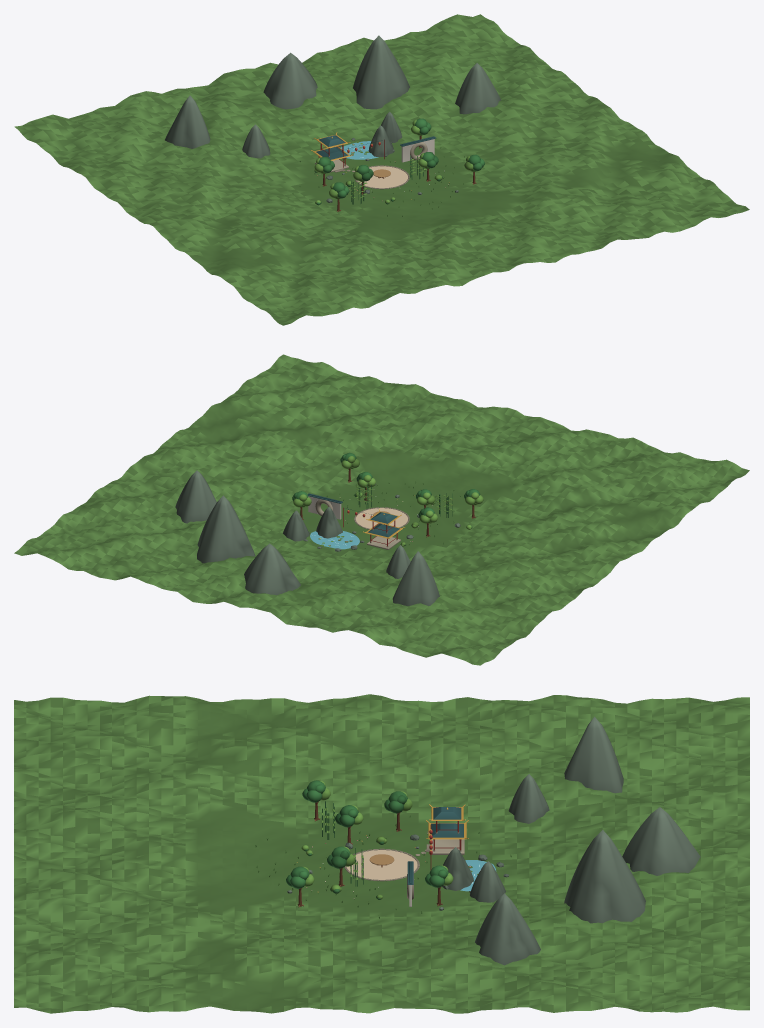
The model's file is china.glb.
3 renders of one model, top to bottom at view 1: azimuth 30°, elevation 25°; view 2: azimuth 150°, elevation 25°; view 3: azimuth 270°, elevation 25°, orthographic. The views are drawn at different scales.
Visible parts, largest first — view 1: china; view 2: china, china_agua; view 3: china.
Part boxes in pixels (x1=…): china: x1=14, y1=14, x2=749, y2=325; china: x1=14, y1=354, x2=749, y2=665; china_agua: x1=310, y1=531, x2=359, y2=549; china: x1=14, y1=694, x2=749, y2=1013.
Bounding box in the file's own units: 90 × 12.18 × 90.
